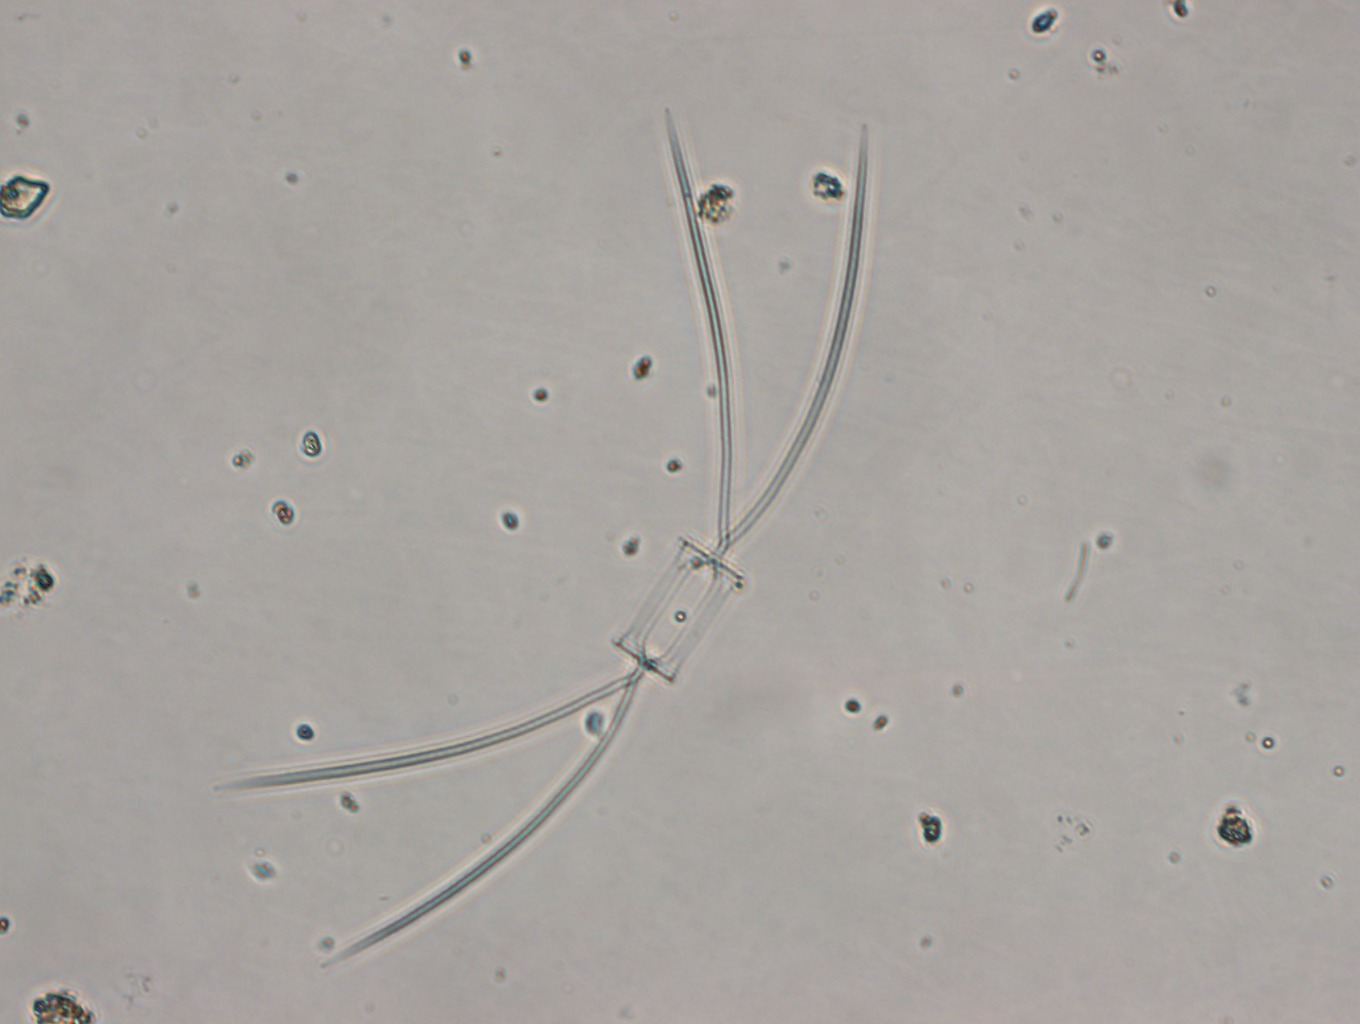chaetoceros: (211, 105, 873, 963)
